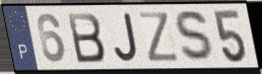5: (211, 8, 248, 65)
6: (36, 12, 68, 65)
B: (65, 11, 108, 65)
J: (113, 11, 141, 64)
S: (174, 9, 218, 65)
Z: (137, 11, 182, 64)
